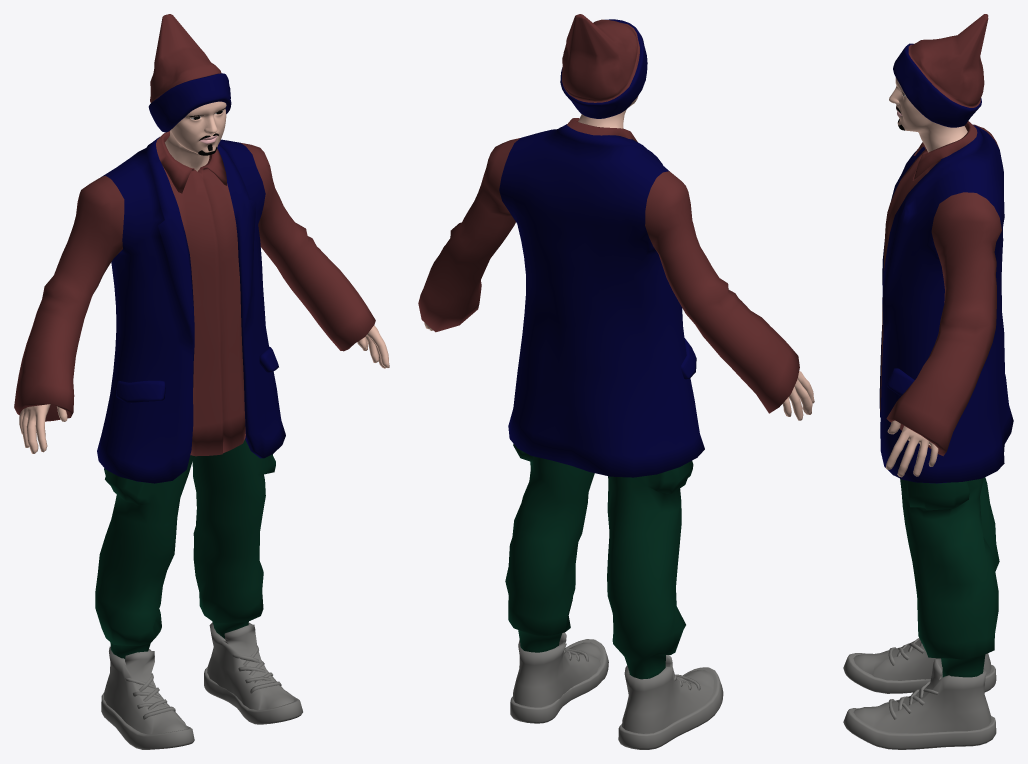
Rendered from Ustad.fbx.
3 views of the same model, side by side, from view 1: azimuth 30°, elevation 25°; view 2: azimuth 150°, elevation 25°; view 3: azimuth 270°, elevation 25° (orthographic). The views are drawn at different scales.
Visible parts, largest first — view 1: goha_poor; view 2: goha_poor; view 3: goha_poor.
Boxes of the visible parts, x1=… form: goha_poor: x1=14, y1=14, x2=389, y2=749; goha_poor: x1=418, y1=14, x2=814, y2=749; goha_poor: x1=843, y1=14, x2=1013, y2=749.
Size of the model in its own units: 106 by 193 by 42.8.
